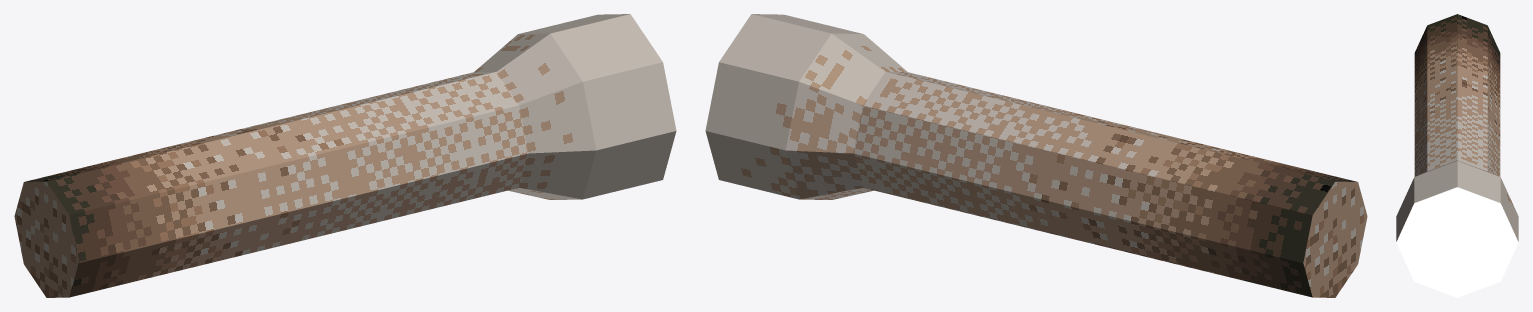
File: flashlight.glb
3 renders of one model, left to right at view 1: azimuth 30°, elevation 25°; view 2: azimuth 150°, elevation 25°; view 3: azimuth 270°, elevation 25°, orthographic. The views are drawn at different scales.
Parts seen in each view (by area): view 1: flashlight-col; view 2: flashlight-col; view 3: flashlight-col.
Boxes of the visible parts, x1,y1,x2,y2 form: flashlight-col: (14,14,676,297); flashlight-col: (705,14,1367,297); flashlight-col: (1396,14,1518,297).
Size of the model in its own units: 0.3363 by 0.0917 by 0.0917.
2 materials, 1 textured.
